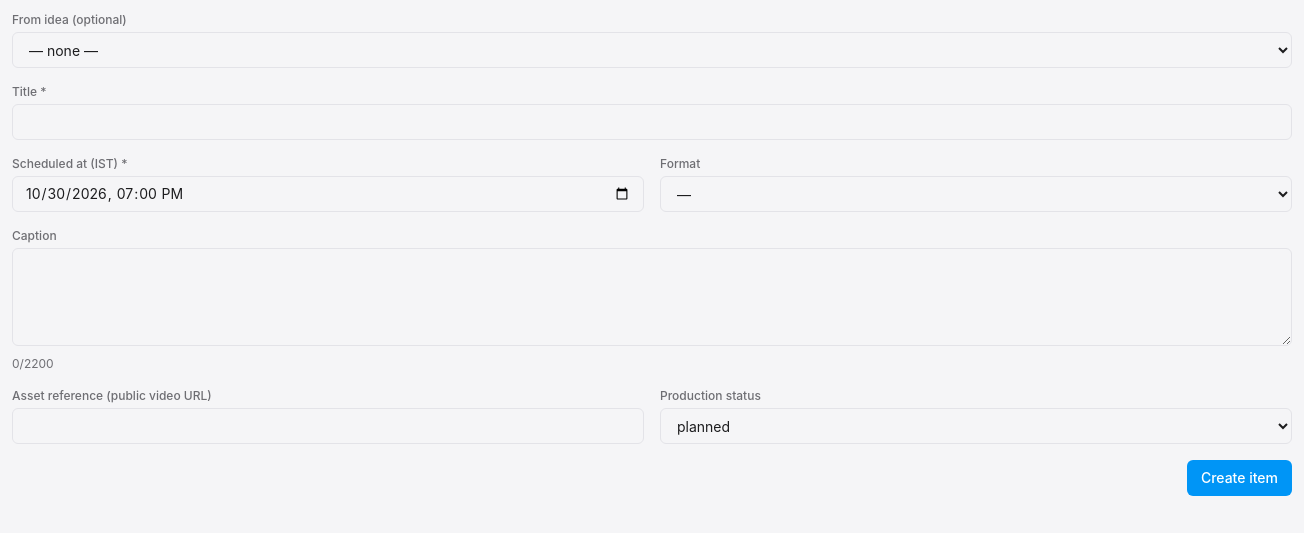
Test: Calendar › requires a title
What coordinates should you click on to do the following:
click the button "Create item"
I would click on:
 (1239, 478)
Its box is 1187,460 -> 1292,496.
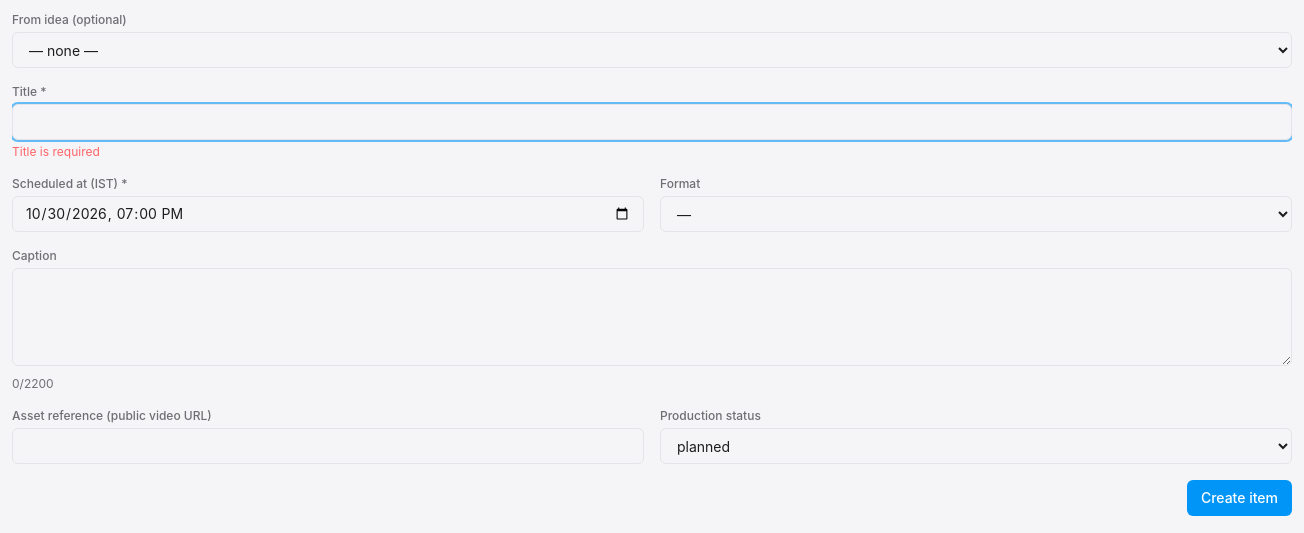
Check: the text "Title is required" is shown, box 12,144 -> 100,159
